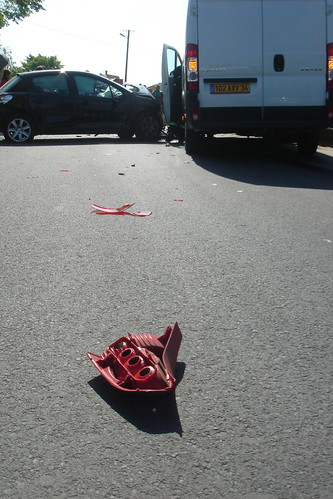car: (1, 48, 170, 153)
trash: (43, 157, 234, 442)
van: (173, 1, 333, 153)
